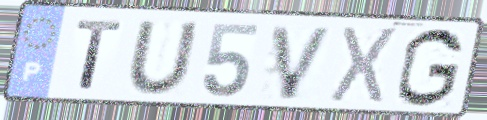5: (200, 21, 260, 100)
G: (393, 26, 466, 109)
T: (73, 18, 126, 93)
U: (125, 19, 202, 97)
V: (269, 23, 337, 102)
X: (326, 24, 402, 107)
